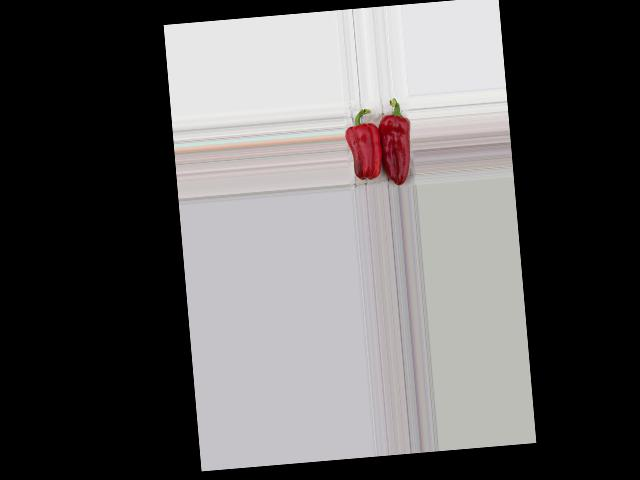bell_pepper: (375, 94, 414, 186)
